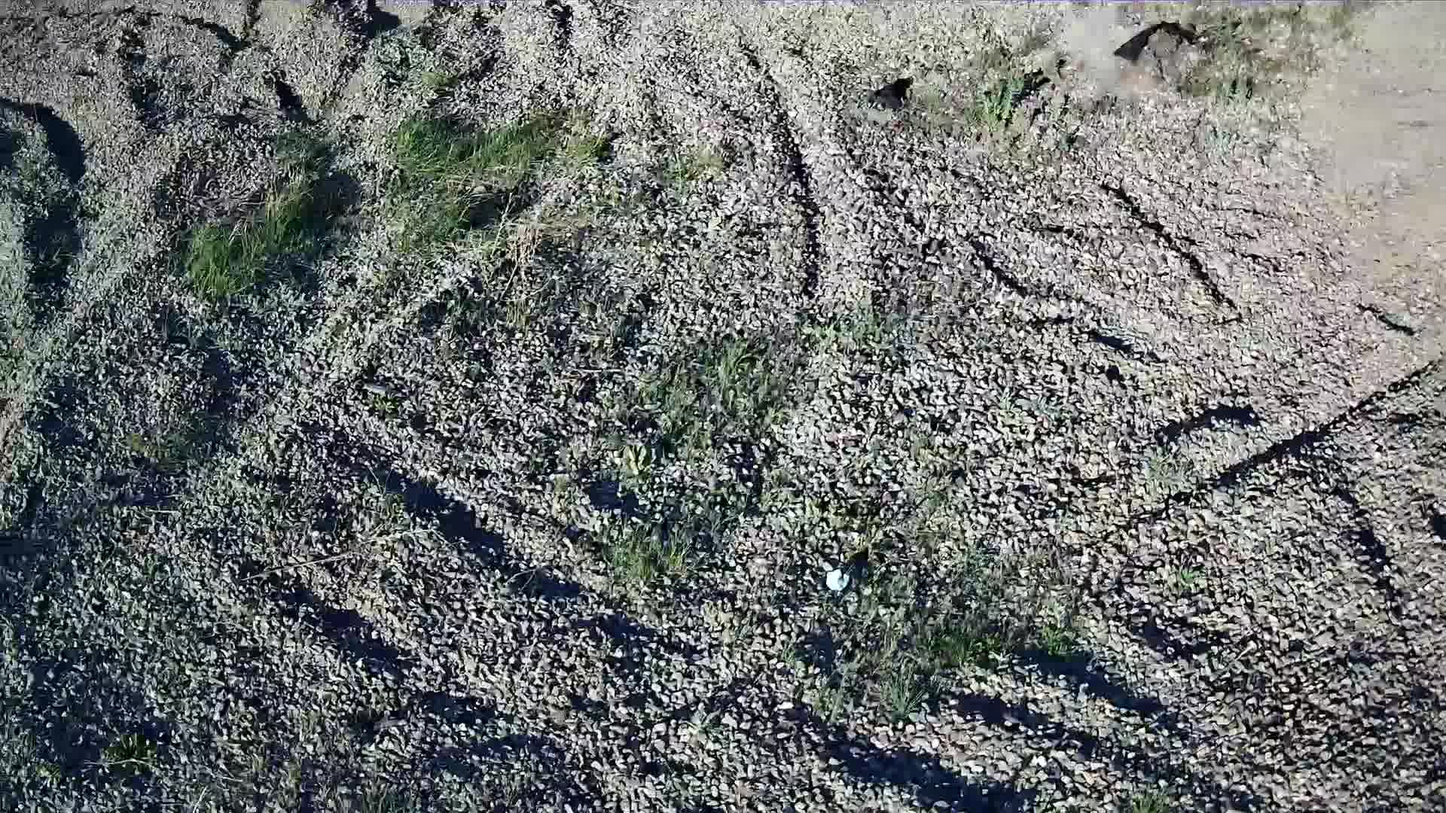Target: (825, 569, 851, 591)
